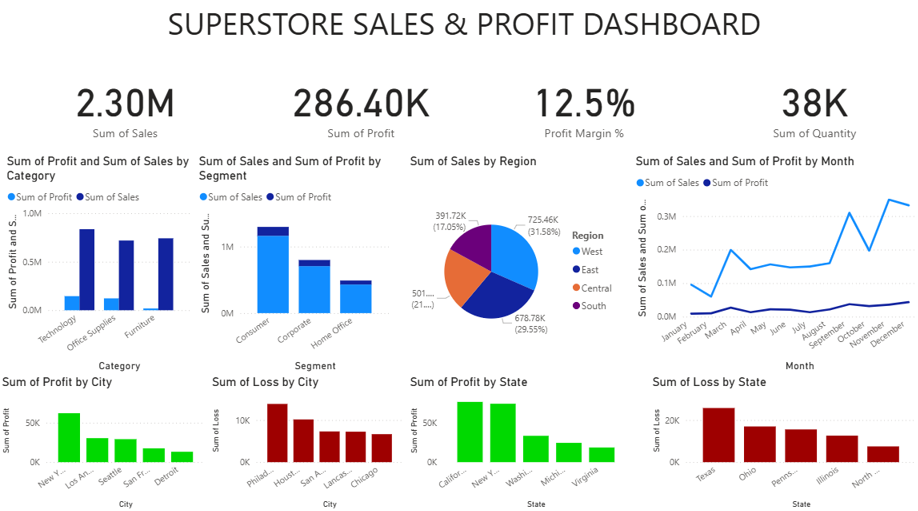

This screenshot's page, from the dashboard's own definition file:
{"tool":"powerbi","page":{"name":"Page 1","canvas":[1280,720],"ordinal":0},"visuals":[{"type":"columnChart","title":"Most Profitable Cities","fields":{"Category":["Orders.City"],"Y":["Sum(Orders.Profit)"]},"box":[0,523.3,291.7,190],"z":0},{"type":"columnChart","title":"Most Loss Making Cities","fields":{"Category":["Orders.City"],"Y":["Sum(Orders.Loss)"]},"box":[291.7,523.3,275,190],"z":1000},{"type":"columnChart","title":"Most Profitable States","fields":{"Category":["Orders.State"],"Y":["Sum(Orders.Profit)"]},"box":[566.7,523.3,313.3,190],"z":2000},{"type":"clusteredColumnChart","title":"Most Loss Making States","fields":{"Y":["Sum(Orders.Loss)"],"Category":["Orders.State"]},"box":[903.3,523.3,376.7,190],"z":3000},{"type":"lineChart","title":"Total Sales and Total Profit by Month","fields":{"Y":["Sum(Orders.Sales)","Sum(Orders.Profit)"],"Category":["Orders.Order Date.Variation.Date Hierarchy.Year","Orders.Order Date.Variation.Date Hierarchy.Quarter","Orders.Order Date.Variation.Date Hierarchy.Month","Orders.Order Date.Variation.Date Hierarchy.Day"]},"box":[880,216.7,400,306.7],"z":4000},{"type":"card","fields":{"Values":["Sum(Orders.Profit)"]},"box":[323.3,93.3,360,110],"z":5000},{"type":"card","fields":{"Values":["Sum(Orders.Sales)"]},"box":[0,93.3,351.7,110],"z":6000},{"type":"card","fields":{"Values":["Sum(Orders.Quantity)"]},"box":[986.7,93.3,293.3,110],"z":7000},{"type":"clusteredColumnChart","title":"Total Profit and Total Sales by Category","fields":{"Category":["Orders.Category"],"Y":["Sum(Orders.Profit)","Sum(Orders.Sales)"]},"box":[6.7,216.7,265,306.7],"z":8000},{"type":"pieChart","title":"Total Sales by Region","fields":{"Y":["Sum(Orders.Sales)"],"Category":["Orders.Region"]},"box":[566.7,216.7,300,306.7],"z":9000},{"type":"columnChart","title":"Total Sales and Total Profit by Segment","fields":{"Category":["Orders.Segment"],"Y":["Sum(Orders.Sales)","Sum(Orders.Profit)"]},"box":[273.3,216.7,275,306.7],"z":10000},{"type":"card","fields":{"Values":["Orders.Profit Margin %"]},"box":[640,93.3,346.7,110],"z":11000},{"type":"textbox","box":[230,0,1036,94],"z":12000}]}

Visuals, with their boxes in screenshot pixels (x1, y1, x2, y2), scaled from the page's 1280x720 canvas onto the 918x511 screenshot:
"Most Profitable Cities" columnChart: <region>0, 371, 209, 506</region>
"Most Loss Making Cities" columnChart: <region>209, 371, 406, 506</region>
"Most Profitable States" columnChart: <region>406, 371, 631, 506</region>
"Most Loss Making States" clusteredColumnChart: <region>648, 371, 917, 506</region>
"Total Sales and Total Profit by Month" lineChart: <region>631, 154, 917, 371</region>
card - Sum(Orders.Profit): <region>232, 66, 490, 144</region>
card - Sum(Orders.Sales): <region>0, 66, 252, 144</region>
card - Sum(Orders.Quantity): <region>708, 66, 917, 144</region>
"Total Profit and Total Sales by Category" clusteredColumnChart: <region>5, 154, 195, 371</region>
"Total Sales by Region" pieChart: <region>406, 154, 622, 371</region>
"Total Sales and Total Profit by Segment" columnChart: <region>196, 154, 393, 371</region>
card - Orders.Profit Margin %: <region>459, 66, 708, 144</region>
textbox: <region>165, 0, 908, 67</region>
